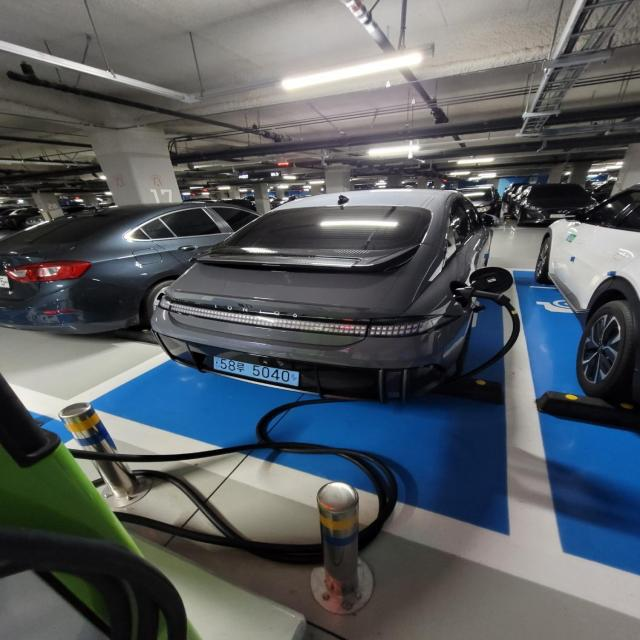EV_plate: (214, 352, 307, 388)
car: (151, 184, 506, 407)
